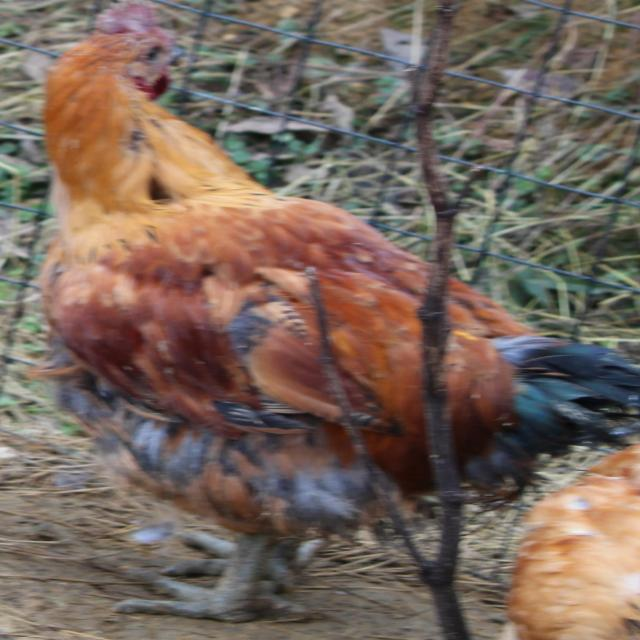hen: (33, 0, 434, 624), (446, 280, 637, 486)
